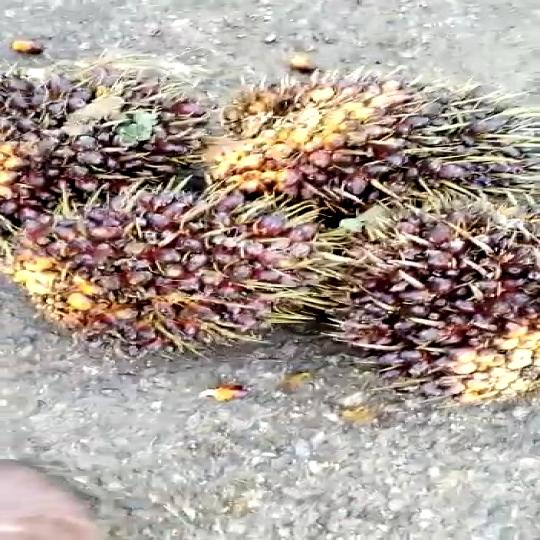kurang masak: (0, 183, 334, 369), (301, 182, 540, 414), (185, 62, 540, 216), (0, 60, 179, 223)
